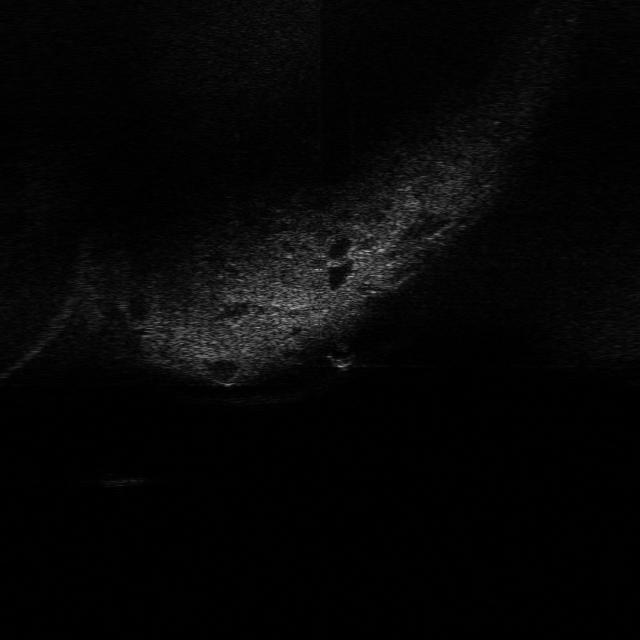ball: (319, 329, 363, 370)
cube: (94, 467, 150, 492)
